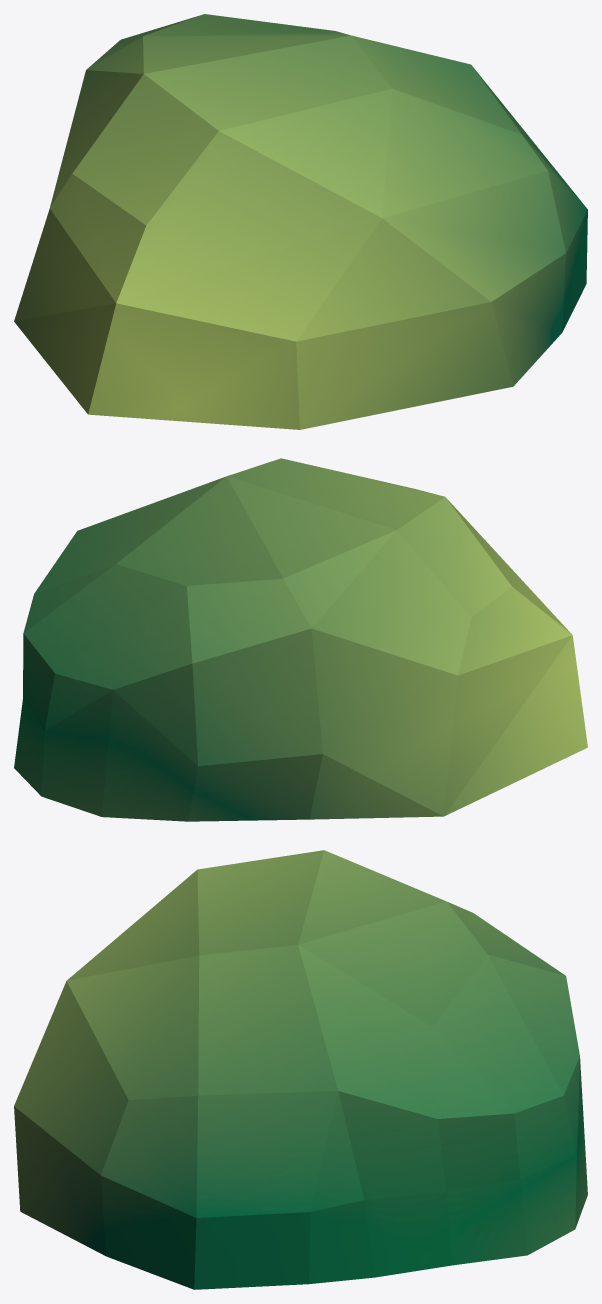
Rendered from bush_01.fbx.
3 renders of one model, top to bottom at view 1: azimuth 30°, elevation 25°; view 2: azimuth 150°, elevation 25°; view 3: azimuth 270°, elevation 25°, orthographic. The views are drawn at different scales.
Parts seen in each view (by area): view 1: bush_01; view 2: bush_01; view 3: bush_01.
Part boxes in pixels (x1,y1,x2,y2): bush_01: (14,14,587,429); bush_01: (14,458,587,821); bush_01: (14,850,587,1289).
Size of the model in its own units: 686 by 328 by 668.
1 material, 1 textured.
